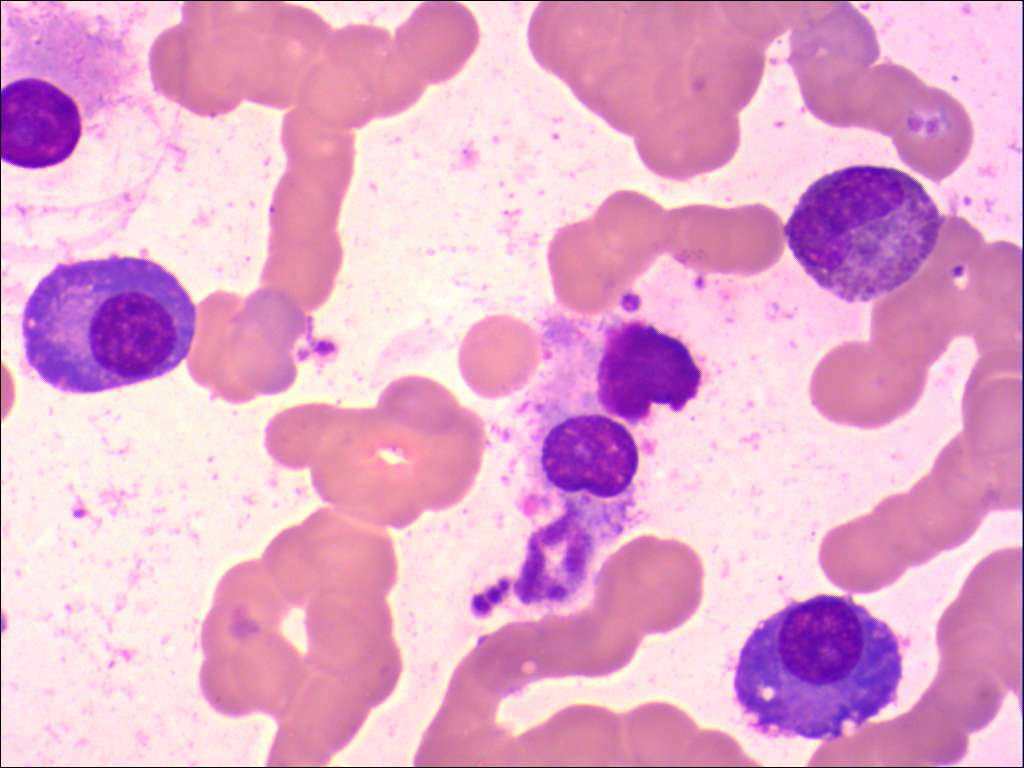51: (17, 252, 198, 398)
52: (731, 591, 905, 743)
E2: (781, 162, 947, 306)
x: (1, 4, 137, 175), (536, 301, 709, 428), (518, 410, 655, 508)
